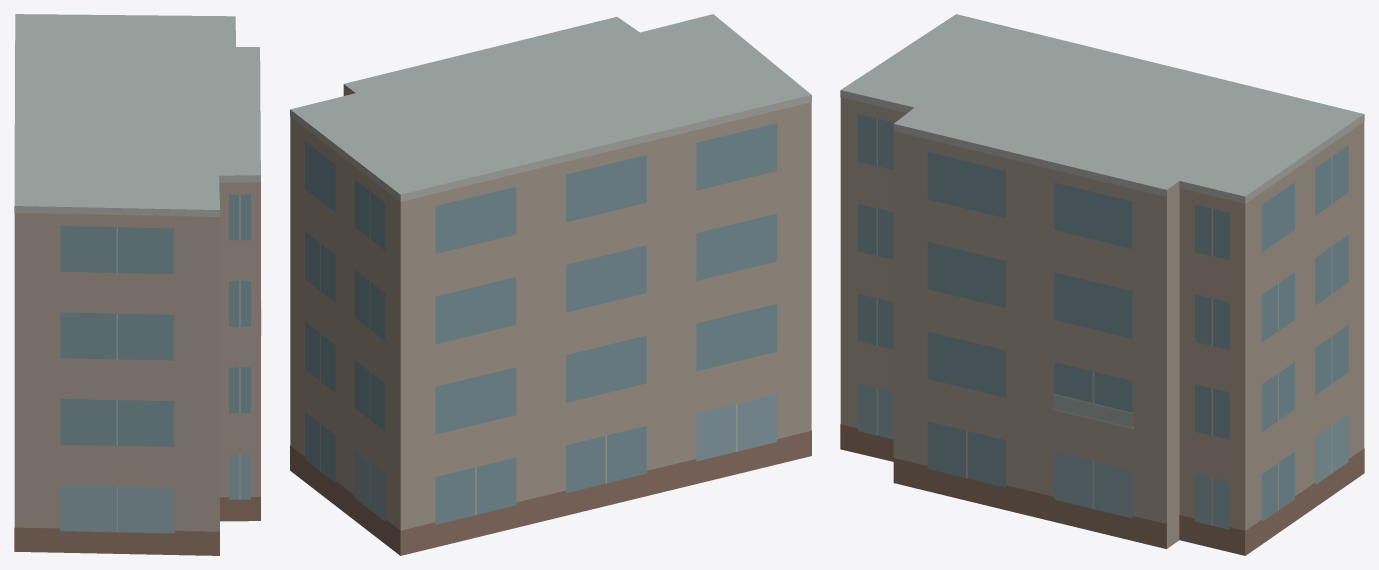
Rendered from survey-upis-32642169.glb.
3 views of the same model, side by side, from view 1: azimuth 30°, elevation 25°; view 2: azimuth 150°, elevation 25°; view 3: azimuth 270°, elevation 25° (orthographic). The views are drawn at different scales.
Parts seen in each view (by area): view 1: survey-upis-32642169.tmp; view 2: survey-upis-32642169.tmp; view 3: survey-upis-32642169.tmp.
Boxes of the visible parts, x1,y1,x2,y2 form: survey-upis-32642169.tmp: (14, 14, 261, 555); survey-upis-32642169.tmp: (290, 14, 811, 555); survey-upis-32642169.tmp: (840, 14, 1364, 555).
Size of the model in its own units: 13.31 by 12.2 by 16.14.
